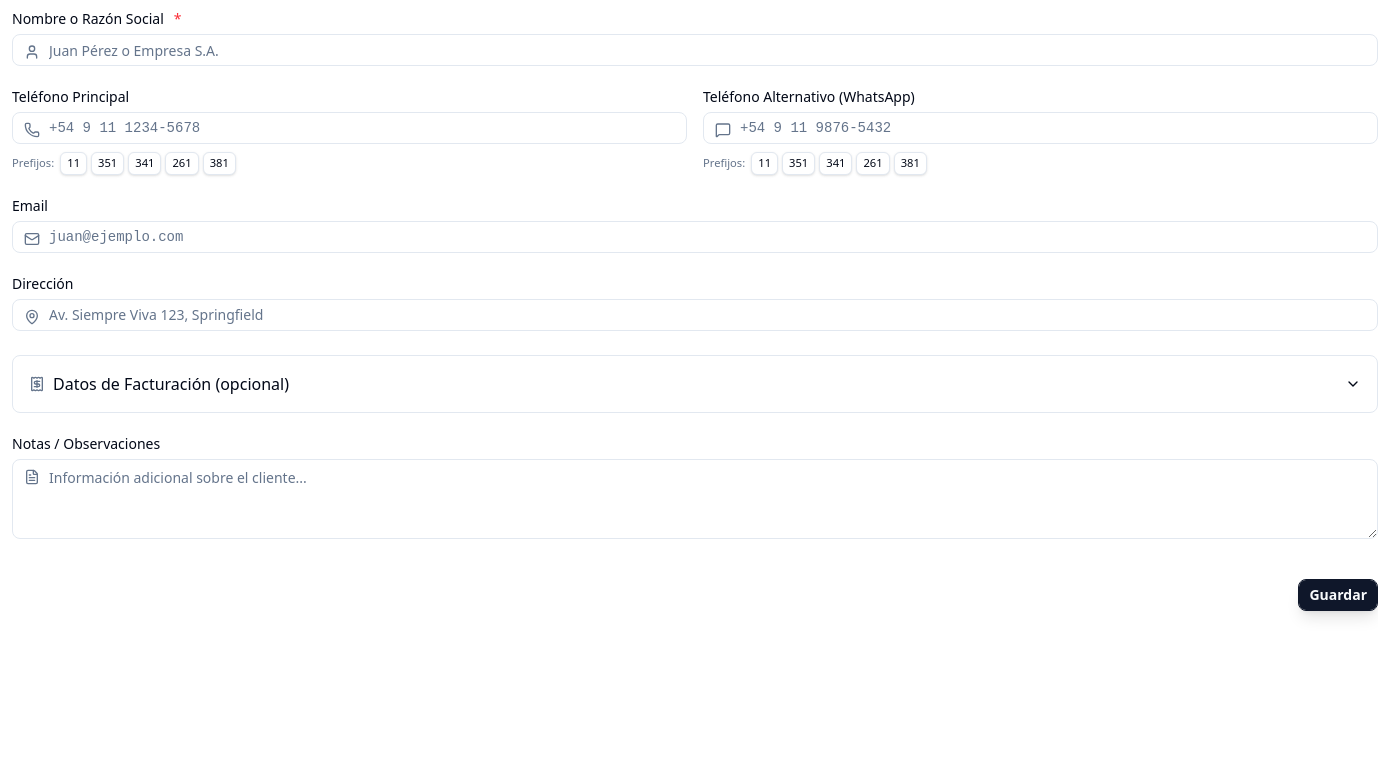
it: CustomerForm › should apply regional prefix template on autocomplete chip click
This screenshot has width=1390, height=780.
Note: Click AMBA (11) prefix button for the primary phone input
Step 1. Click the button named "Aplicar prefijo AMBA (11) al teléfono principal" → (74, 163), box [60,152,87,175]
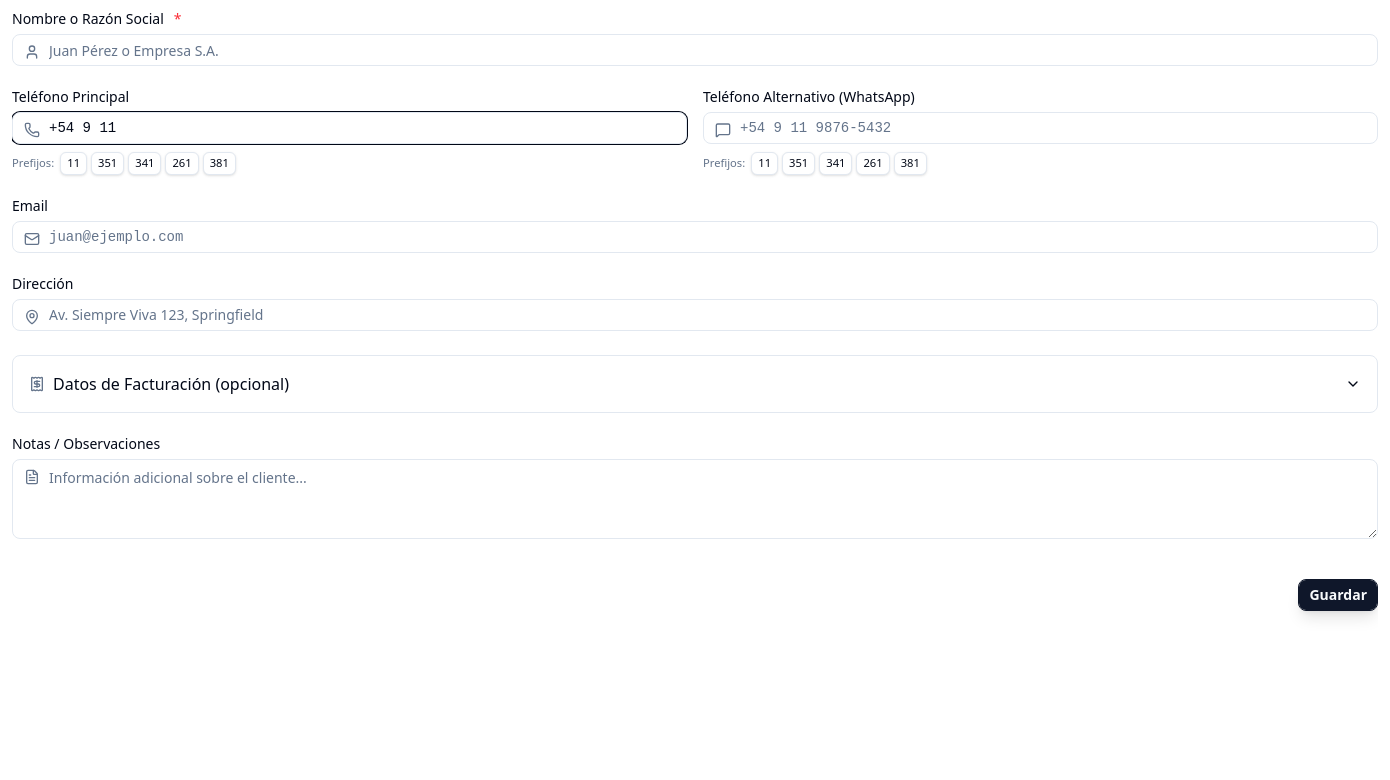
Expected: the field labelled "Teléfono Principal" holds "+54 9 11 ", [12,112,687,144]
